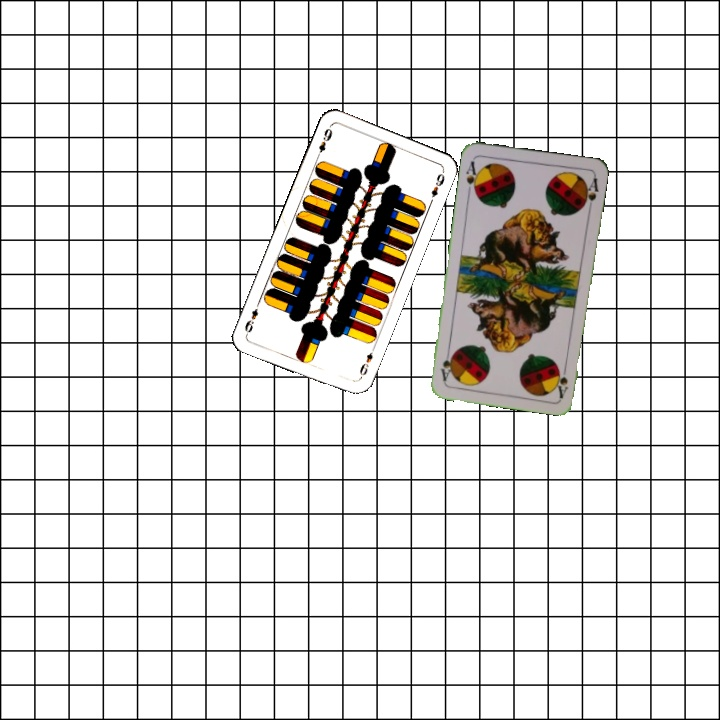E9: (313, 123, 335, 162), (355, 343, 377, 382)
SA: (462, 157, 482, 197), (554, 359, 571, 400)
